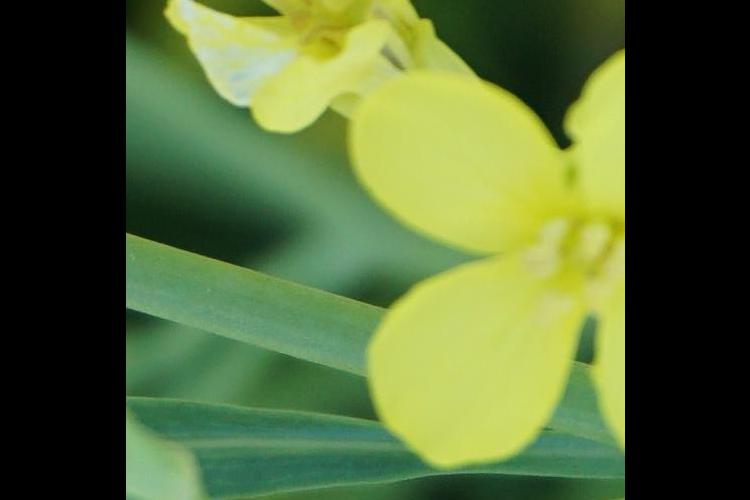yellow: (167, 1, 485, 136)
